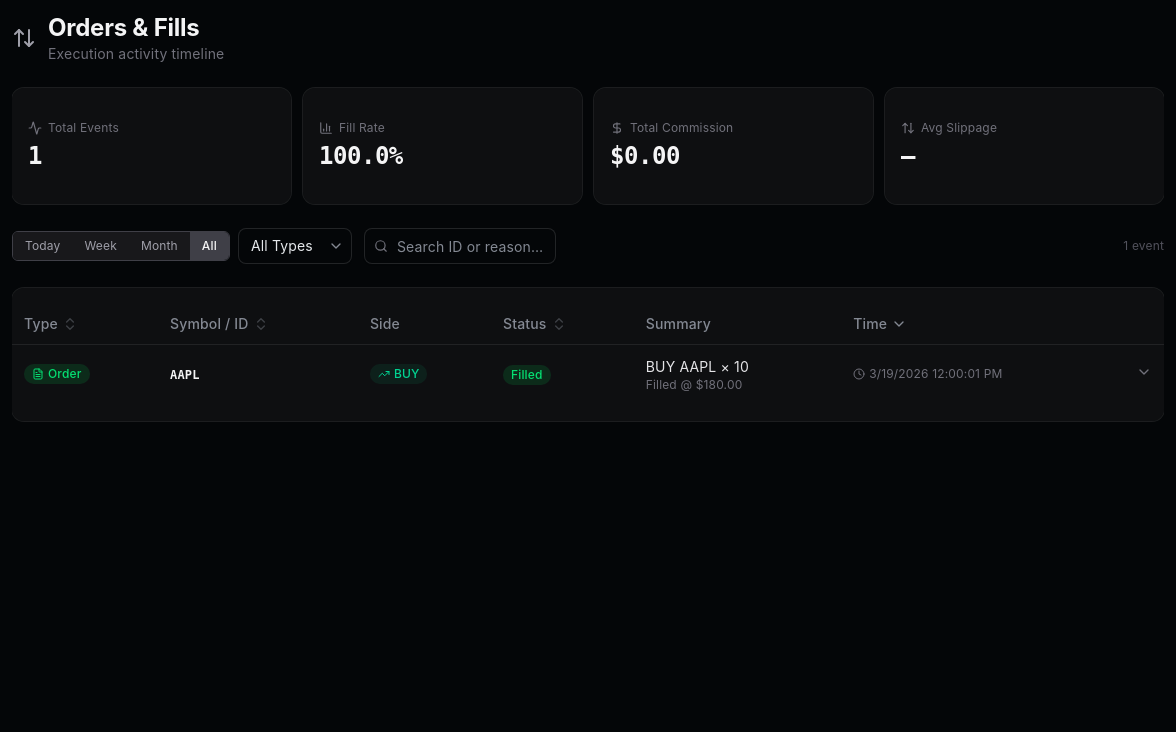
Test: OrdersPage › search input filters entries
This screenshot has width=1176, height=732.
In the field named "Search orders by ID, symbol, or reason": (460, 246) [364,228,556,264], type "NONEXISTENT"
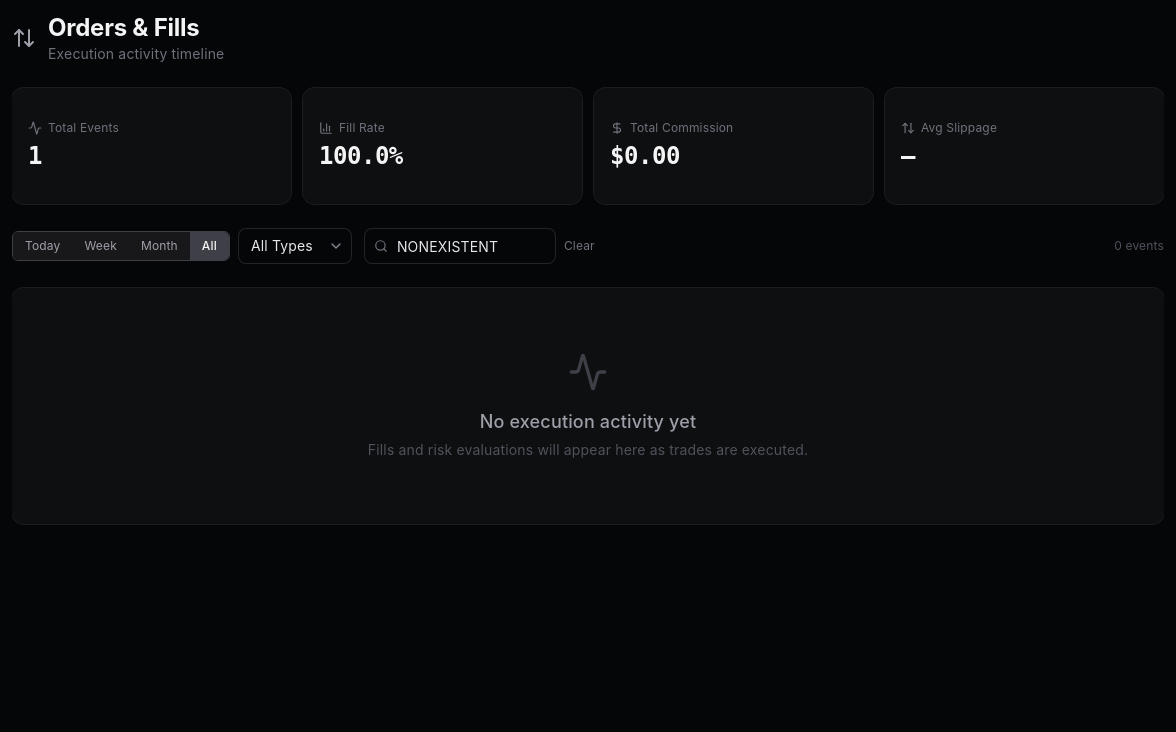
Check: the heading "No execution activity yet" is shown, box [480,411,696,432]
